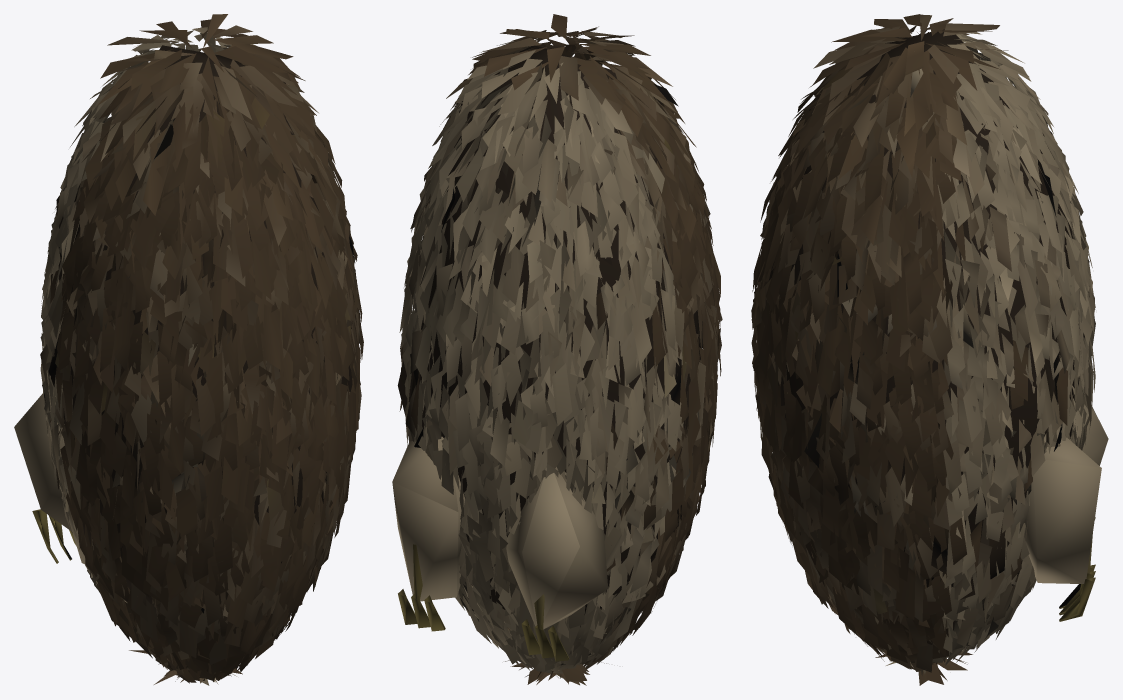
The model's file is bird_root.obj.
The picture shows the model from 3 angles, left to right: view 1: azimuth 30°, elevation 25°; view 2: azimuth 150°, elevation 25°; view 3: azimuth 270°, elevation 25°; orthographic projection.
Parts seen in each view (by area): view 1: PIECE_BIRD_ROOT; view 2: PIECE_BIRD_ROOT; view 3: PIECE_BIRD_ROOT.
Boxes of the visible parts, x1,y1,x2,y2 form: PIECE_BIRD_ROOT: [14, 14, 363, 685]; PIECE_BIRD_ROOT: [392, 14, 722, 685]; PIECE_BIRD_ROOT: [751, 14, 1108, 685].
Bounding box in the file's own units: 0.1247 × 0.2766 × 0.1401.
1 material, 1 textured.
